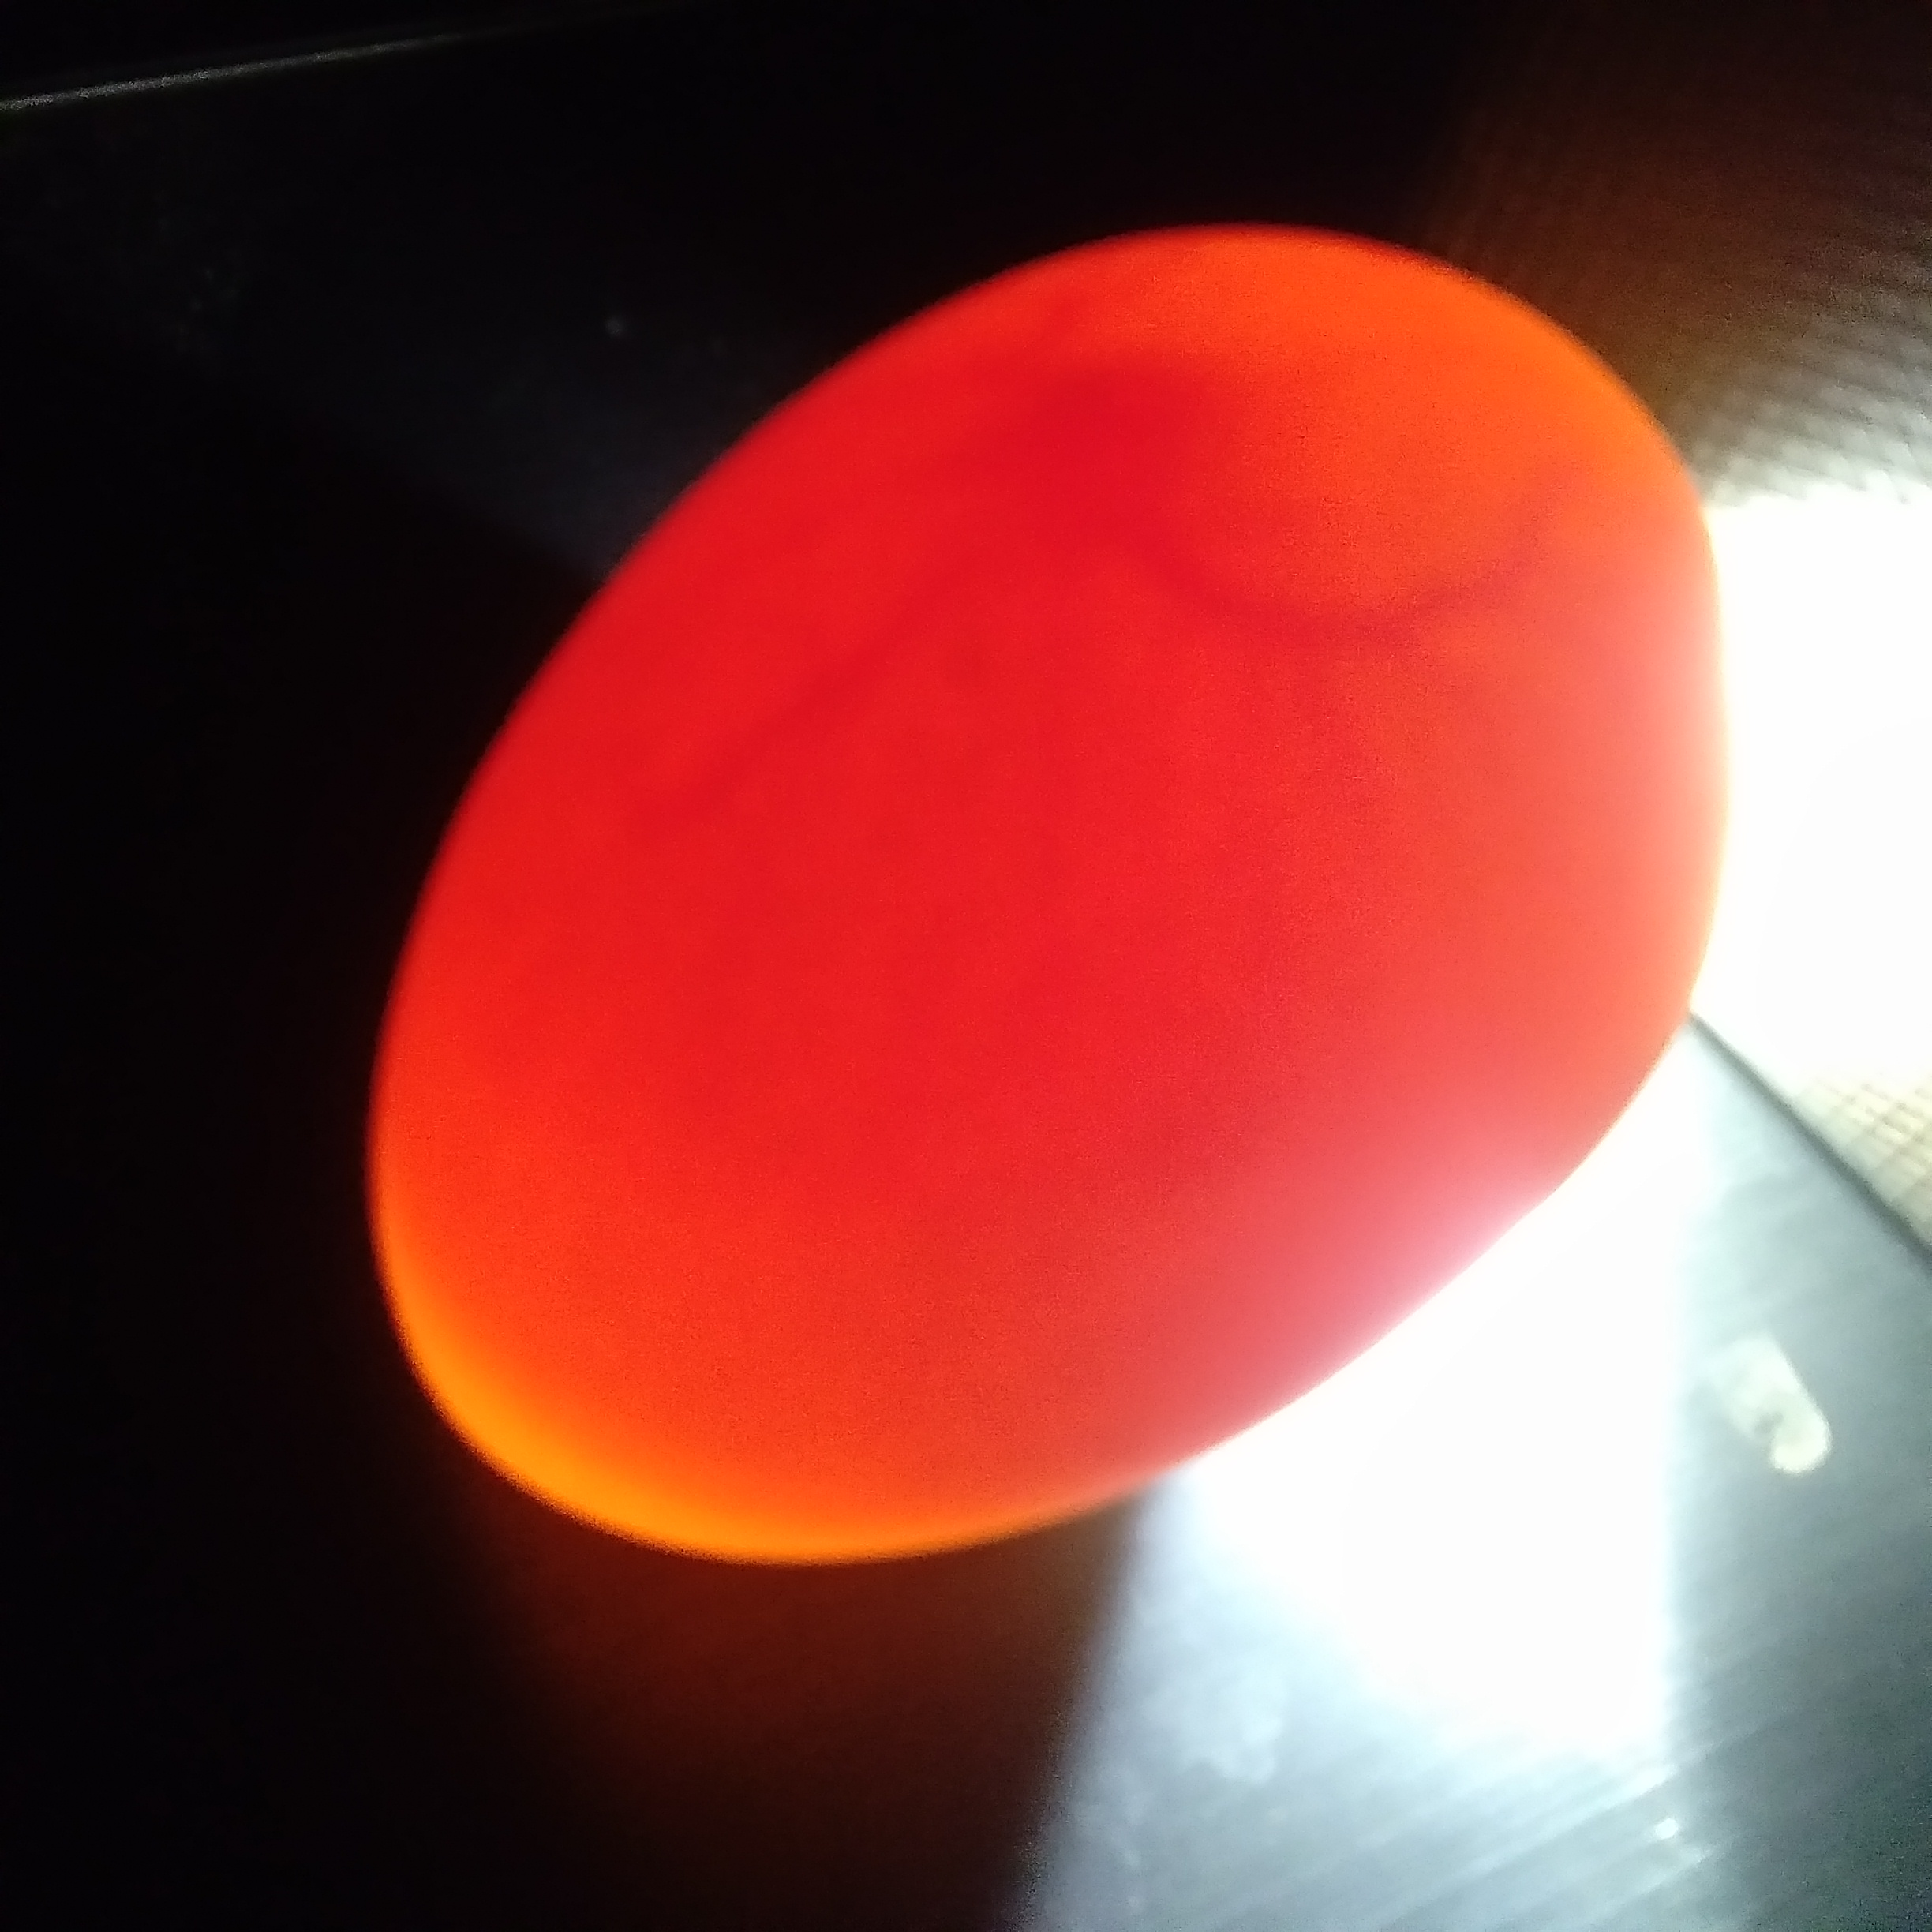bloodcell: (1240, 458, 1621, 1069), (702, 504, 945, 1173)
embryo: (1003, 331, 1203, 538)
